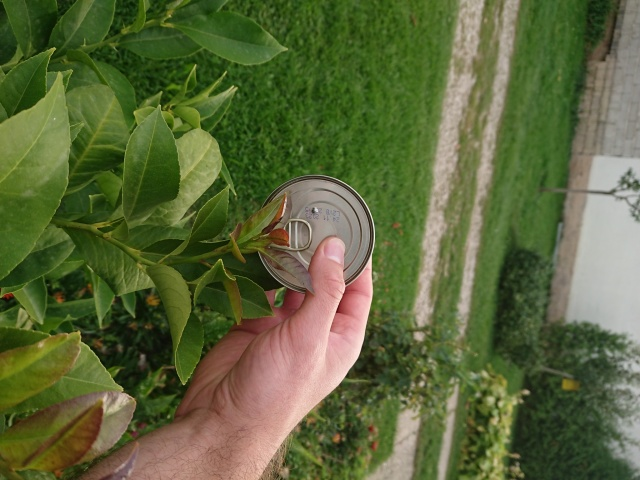Podravka Luncheon Meat 150g: (251, 172, 378, 298)
